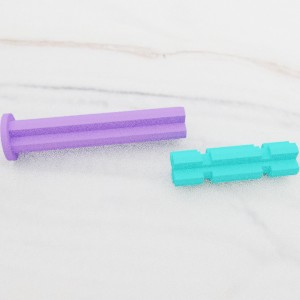lego: (0, 106, 186, 161), (169, 140, 299, 186)
